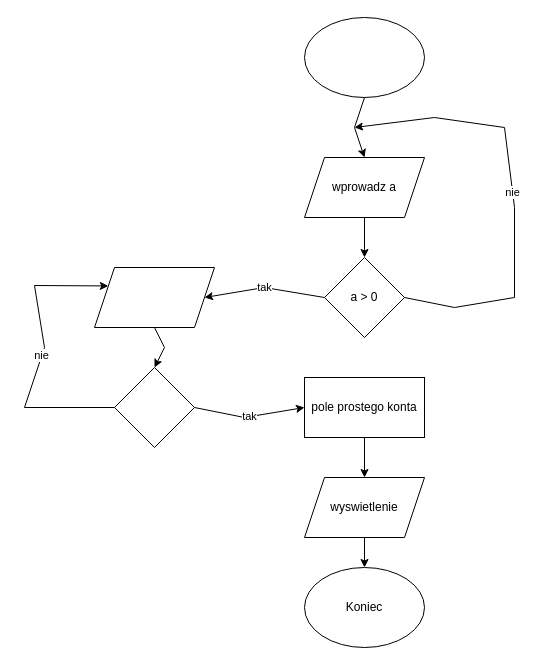
This 540x665 diagram has some shape labels left out. The shapes that lost their labels are listed below. From the top down, each one's centre as x and y in pixels, then its label:
At [364,57]: "start".
At [154,297]: "wprowadz b".
At [154,407]: "b >0".
